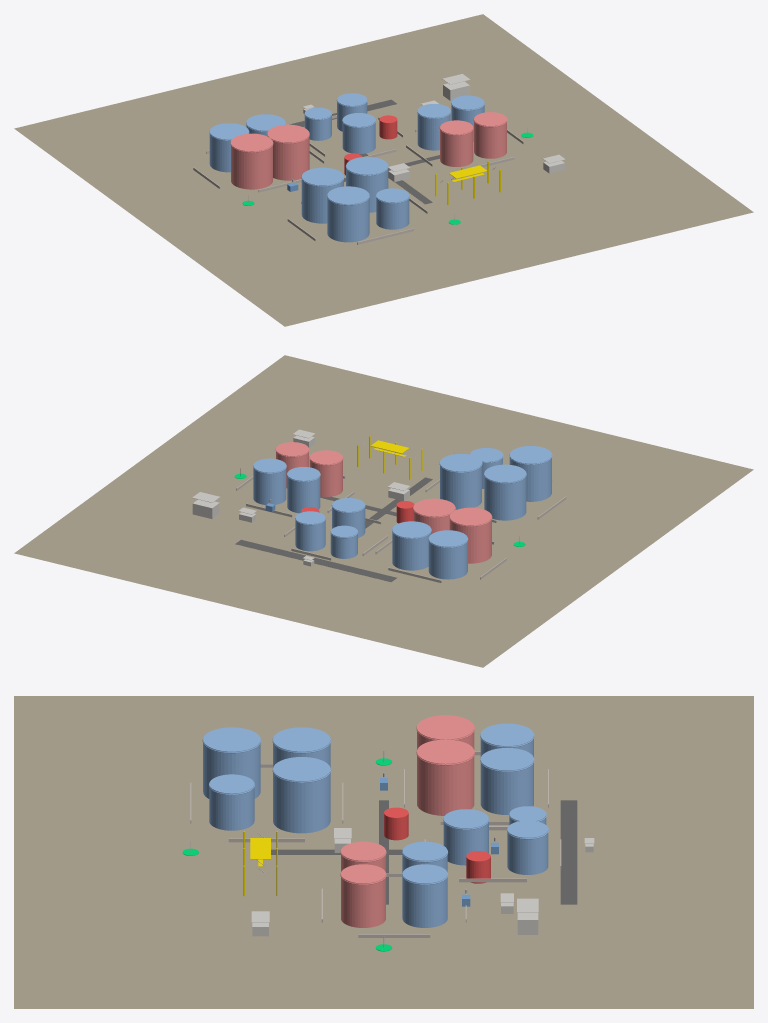
File: depot_model.glb
3 renders of one model, top to bottom at view 1: azimuth 30°, elevation 25°; view 2: azimuth 150°, elevation 25°; view 3: azimuth 270°, elevation 25°, orthographic. The views are drawn at different scales.
Visible parts, largest first — view 1: Ground, TK-D03, TK-A03, TK-A04, TK-D01, TK-C03, TK-D02, TK-C04, TK-D04, TK-B03, TK-A01, TK-C01 (+4 smaller); view 2: Ground, TK-D01, TK-D02, TK-A01, TK-A02, TK-A03, TK-D03, TK-C02, TK-C01, TK-C03, TK-B02, TK-A04 (+5 smaller); view 3: Ground, TK-D02, TK-A04, TK-A02, TK-D03, TK-C02, TK-C04, TK-D04, TK-B02, TK-B03, Main_Road, TK-D01 (+7 smaller).
Boxes of the visible parts, <box> form: Ground: <box>14,14,753,326</box>; TK-D03: <box>327,186,369,242</box>; TK-A03: <box>231,133,272,189</box>; TK-A04: <box>267,124,309,180</box>; TK-D01: <box>301,167,343,223</box>; TK-C03: <box>440,120,473,166</box>; TK-D02: <box>346,157,388,212</box>; TK-C04: <box>474,112,506,158</box>; TK-D04: <box>376,188,409,229</box>; TK-B03: <box>342,113,375,153</box>; TK-A01: <box>209,123,248,172</box>; TK-C01: <box>417,104,450,150</box>; Ground: <box>14,355,753,667</box>; TK-D01: <box>484,464,526,520</box>; TK-D02: <box>440,454,481,509</box>; TK-A01: <box>428,530,467,579</box>; TK-A02: <box>392,521,431,570</box>; TK-A03: <box>449,507,491,563</box>; TK-D03: <box>509,446,551,501</box>; TK-C02: <box>253,458,286,504</box>; TK-C01: <box>287,467,320,513</box>; TK-C03: <box>309,450,342,496</box>; TK-B02: <box>295,511,325,551</box>; TK-A04: <box>413,498,455,533</box>; Ground: <box>14,696,753,1008</box>; TK-D02: <box>273,757,330,833</box>; TK-A04: <box>417,739,474,815</box>; TK-A02: <box>480,748,533,814</box>; TK-D03: <box>203,727,260,798</box>; TK-C02: <box>402,864,447,927</box>; TK-C04: <box>341,864,385,927</box>; TK-D04: <box>209,774,254,830</box>; TK-B02: <box>507,820,548,874</box>; TK-B03: <box>443,809,488,865</box>; Main_Road: <box>560,800,577,904</box>; TK-D01: <box>273,727,330,767</box>.
Size of the model in its own units: 180 by 14 by 180.
